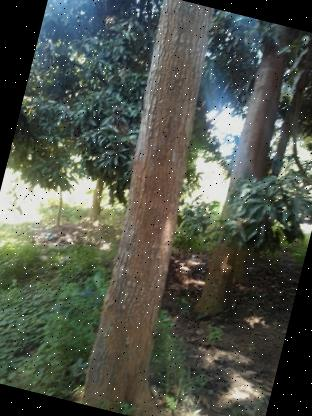tree: (61, 0, 250, 416), (172, 17, 312, 339)
